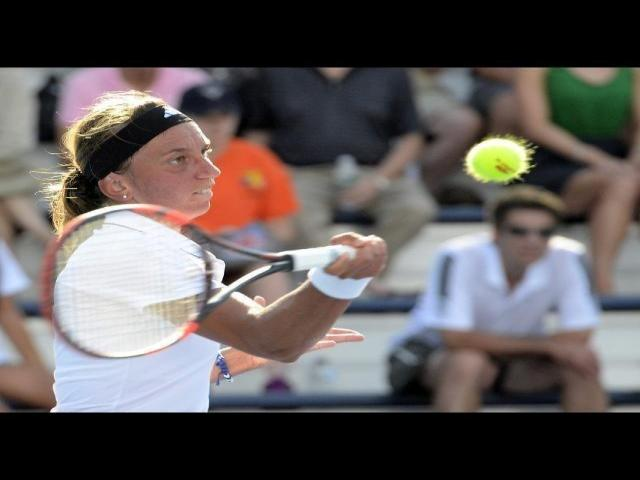tennis-ball: (467, 138, 527, 182)
